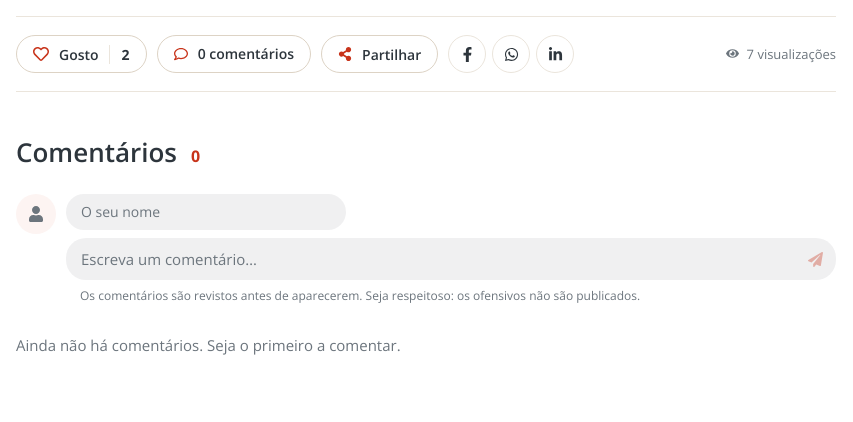
Scenario: Interacoes (gostos e comentários no site) › mostra o erro devolvido pela API
Expected: the text "7 visualizações" is shown, x1=726 y1=44 x2=836 y2=64
Type "Ana" into the field labelled "nome".
click(206, 212); type("Ana")  # box x1=66 y1=194 x2=346 y2=230
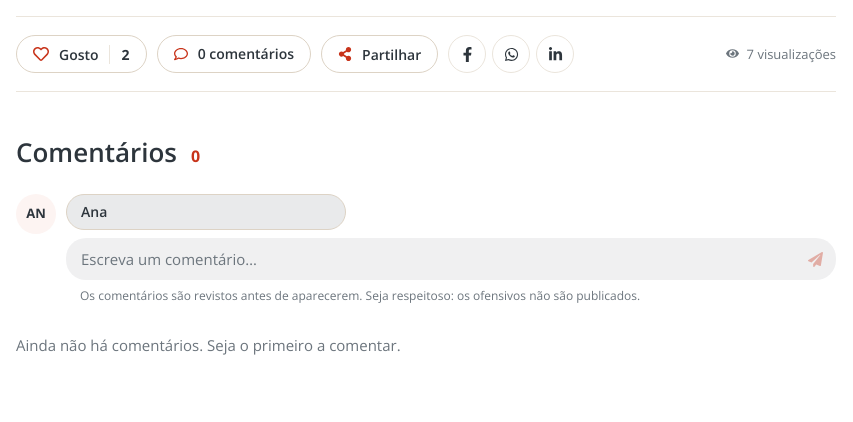
Type "x" into the text box labelled "comentário".
click(438, 259); type("x")  # box x1=81 y1=243 x2=795 y2=275
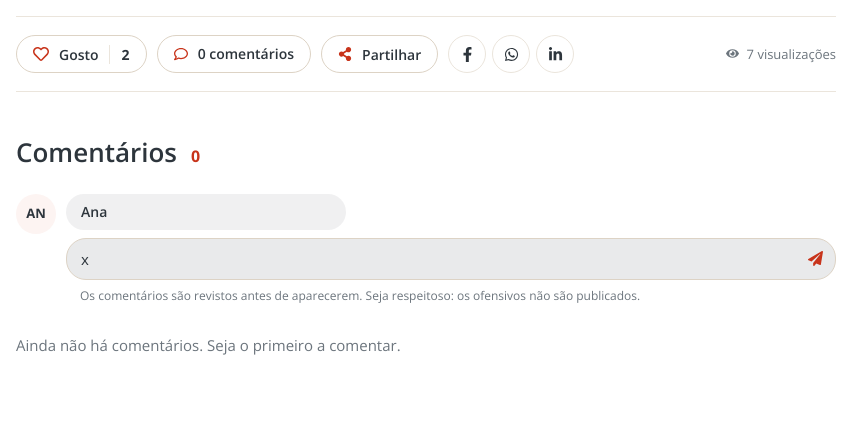
Click the button named "Publicar comentário".
click(815, 259)  # box x1=799 y1=243 x2=831 y2=275
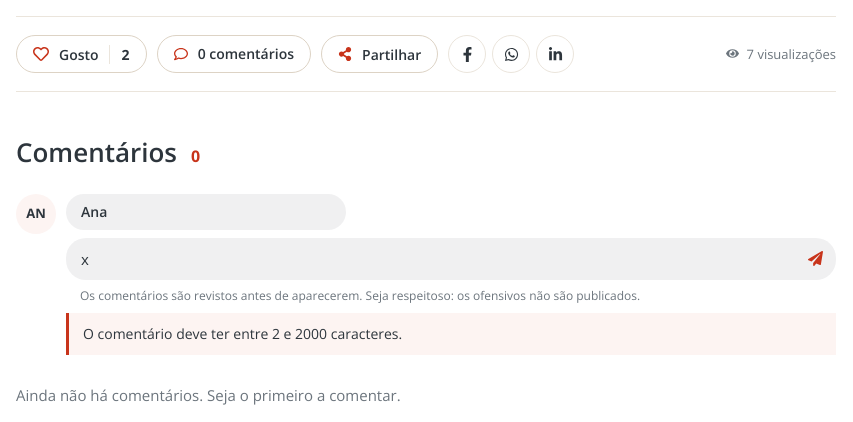
Expected: the message reads "O comentário deve ter entre 2 e 2000 caracteres.", x1=83 y1=324 x2=402 y2=343
